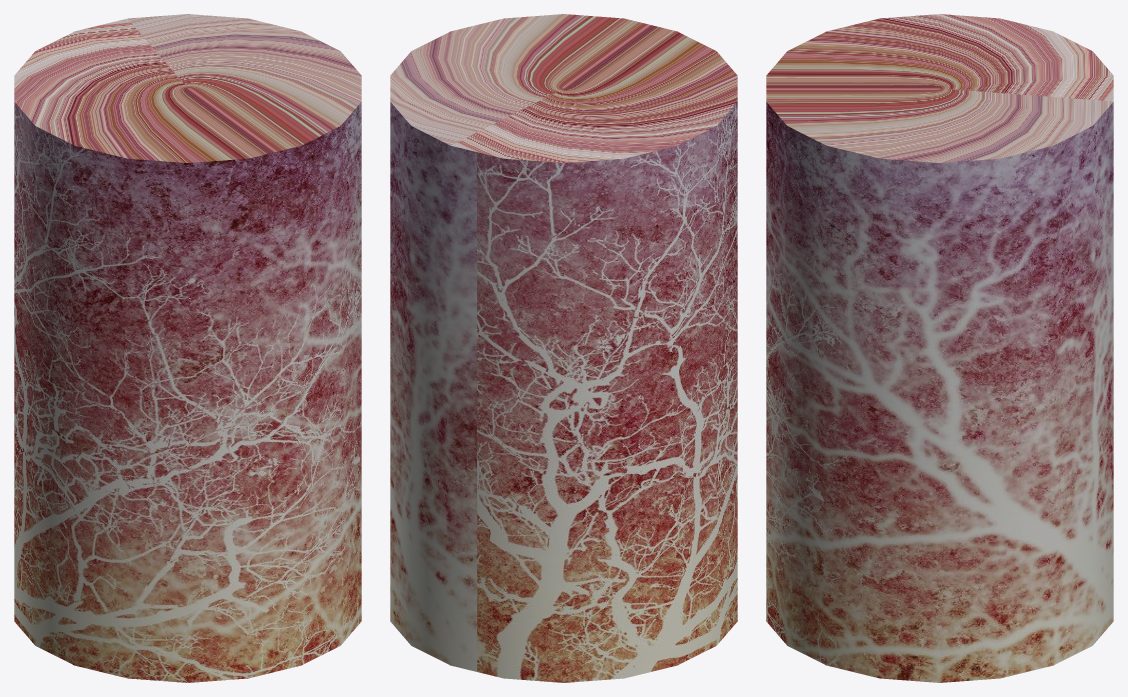
Rendered from HCYuanzhu.obj.
3 renders of one model, left to right at view 1: azimuth 30°, elevation 25°; view 2: azimuth 150°, elevation 25°; view 3: azimuth 270°, elevation 25°, orthographic.
Visible parts, largest first — view 1: Cylinder001; view 2: Cylinder001; view 3: Cylinder001.
Part boxes in pixels (x1,y1,x2,y2): Cylinder001: (14, 14, 361, 682); Cylinder001: (390, 14, 737, 682); Cylinder001: (766, 14, 1113, 682).
Bounding box in the file's own units: 82.41 × 134 × 81.16.
